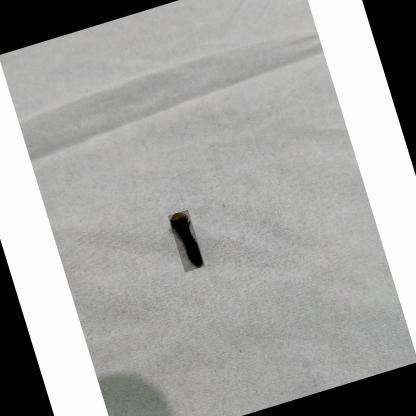buruk: (171, 212, 203, 267)
